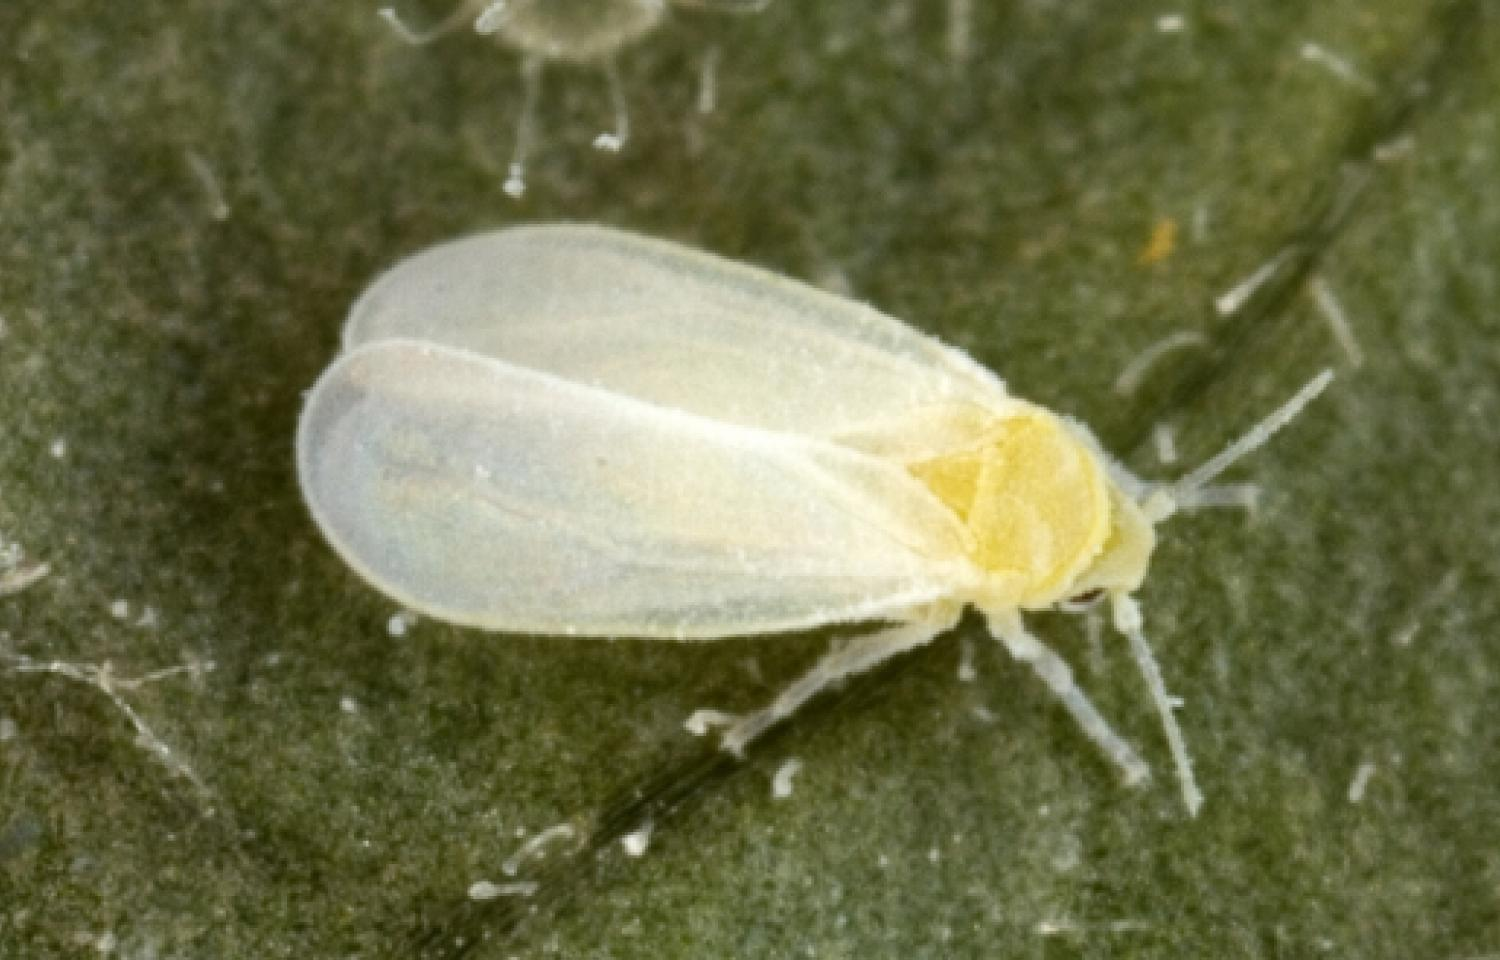Tobacco Whitefly: (160, 166, 1302, 816)
